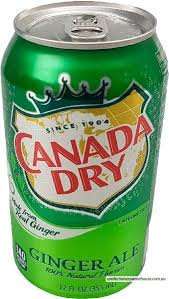Lata: (1, 1, 168, 298)
